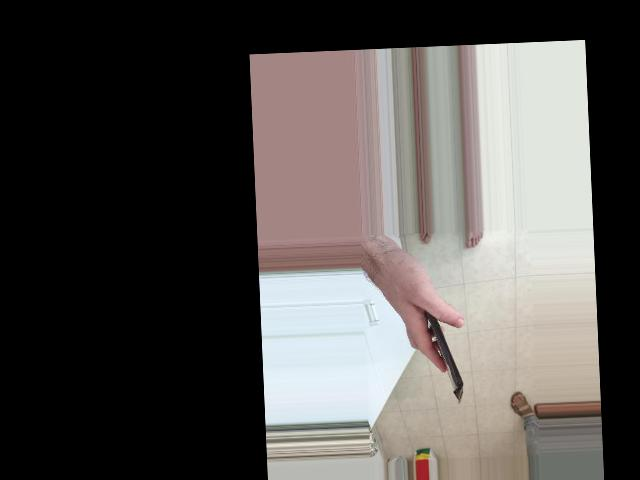chocolate: (415, 291, 473, 407)
